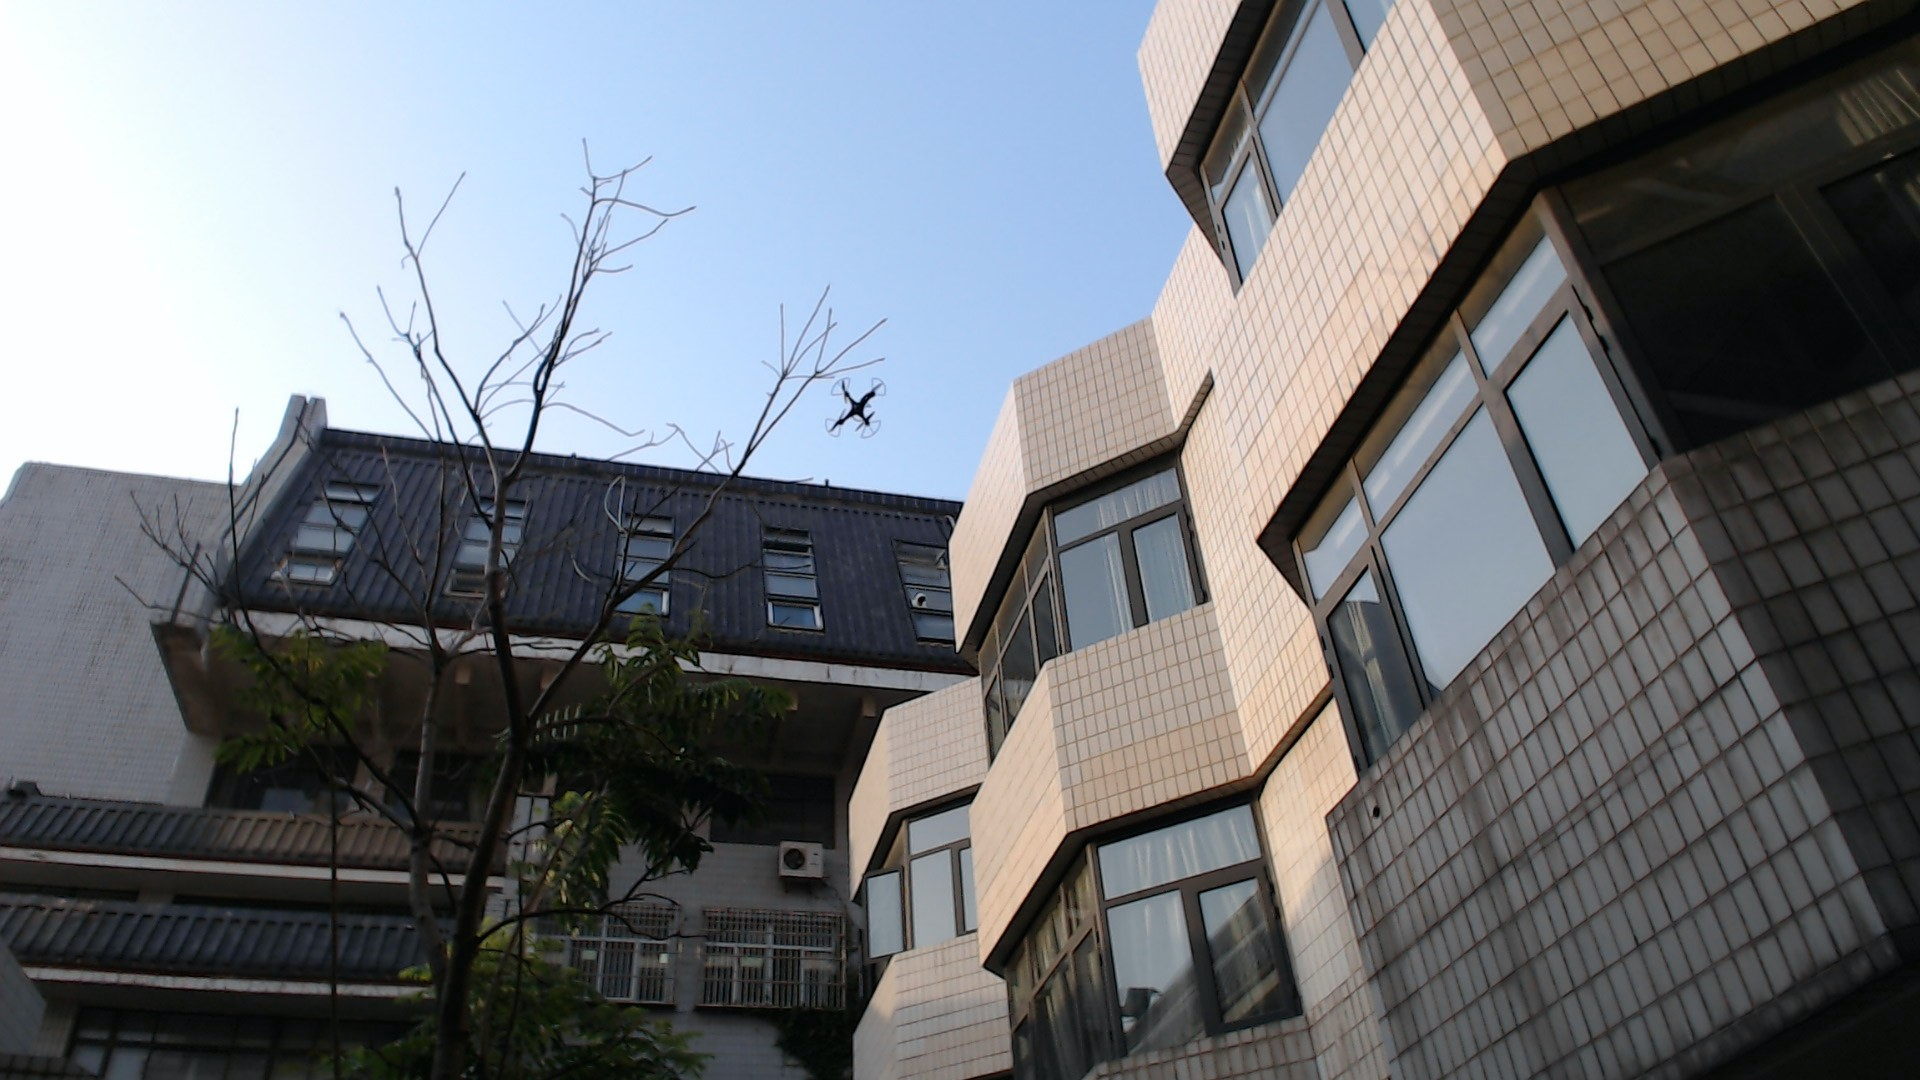drone: (800, 357, 903, 458)
